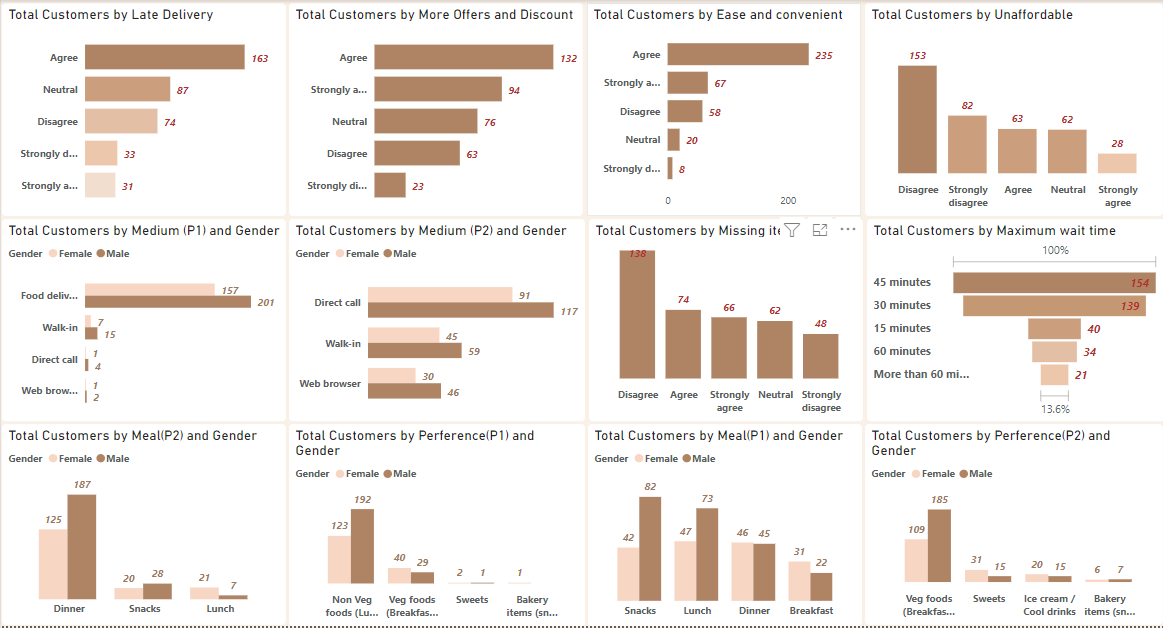

Layout of this report page (visuals, bound fields, positions):
{"tool":"powerbi","page":{"name":"Page 2","canvas":[1415,761],"ordinal":1},"visuals":[{"type":"clusteredBarChart","fields":{"Y":["Key Measures.Total Respondents"],"Category":["onlinedeliverydata csv XpressTech Dataset.Medium (P1)"],"Series":["onlinedeliverydata csv XpressTech Dataset.Gender"]},"box":[1.2,266.2,345.2,245.6],"z":0},{"type":"clusteredBarChart","fields":{"Series":["onlinedeliverydata csv XpressTech Dataset.Gender"],"Y":["Key Measures.Total Respondents"],"Category":["onlinedeliverydata csv XpressTech Dataset.Medium (P2)"]},"box":[350.1,266.2,359.8,245.6],"z":1000},{"type":"clusteredColumnChart","fields":{"Y":["Key Measures.Total Respondents"],"Category":["onlinedeliverydata csv XpressTech Dataset.Meal(P1)"],"Series":["onlinedeliverydata csv XpressTech Dataset.Gender"]},"box":[713.6,515.4,333.1,245.6],"z":2000},{"type":"clusteredColumnChart","fields":{"Y":["Key Measures.Total Respondents"],"Category":["onlinedeliverydata csv XpressTech Dataset.Meal(P2)"],"Series":["onlinedeliverydata csv XpressTech Dataset.Gender"]},"box":[1.2,515.4,345.2,244.3],"z":3000},{"type":"clusteredColumnChart","fields":{"Y":["Key Measures.Total Respondents"],"Category":["onlinedeliverydata csv XpressTech Dataset.Perference(P1)"],"Series":["onlinedeliverydata csv XpressTech Dataset.Gender"]},"box":[350.1,515.4,359.8,245.6],"z":4000},{"type":"clusteredColumnChart","fields":{"Y":["Key Measures.Total Respondents"],"Category":["onlinedeliverydata csv XpressTech Dataset.Perference(P2)"],"Series":["onlinedeliverydata csv XpressTech Dataset.Gender"]},"box":[1050,515.4,362.3,244.3],"z":5000},{"type":"barChart","fields":{"Y":["Key Measures.Total Respondents"],"Category":["onlinedeliverydata csv XpressTech Dataset.More Offers and Discount"]},"box":[350.1,3.6,357.4,258.9],"z":6000},{"type":"barChart","fields":{"Y":["Key Measures.Total Respondents"],"Category":["onlinedeliverydata csv XpressTech Dataset.Late Delivery"]},"box":[1.2,3.6,345.2,258.9],"z":7000},{"type":"columnChart","fields":{"Y":["Key Measures.Total Respondents"],"Category":["onlinedeliverydata csv XpressTech Dataset.Missing item"]},"box":[715,266.2,333.1,245.6],"z":8000},{"type":"barChart","fields":{"Y":["Key Measures.Total Respondents"],"Category":["onlinedeliverydata csv XpressTech Dataset.Ease and convenient"]},"box":[712,3.6,333.1,258.9],"z":9000},{"type":"columnChart","fields":{"Y":["Key Measures.Total Respondents"],"Category":["onlinedeliverydata csv XpressTech Dataset.Unaffordable"]},"box":[1050.3,3.6,362.3,258.9],"z":10000},{"type":"funnel","fields":{"Category":["onlinedeliverydata csv XpressTech Dataset.Maximum wait time"],"Y":["Key Measures.Total Customers"]},"box":[1052.7,266.2,362.3,245.6],"z":11000}]}

Visuals, with their boxes in screenshot pixels (x1, y1, x2, y2), scaled from the page's 1415x761 canvas onto the 1163x628 screenshot:
clusteredBarChart - Key Measures.Total Respondents x onlinedeliverydata csv XpressTech Dataset.Medium (P1): bbox(1, 220, 285, 422)
clusteredBarChart - onlinedeliverydata csv XpressTech Dataset.Gender x Key Measures.Total Respondents: bbox(288, 220, 583, 422)
clusteredColumnChart - Key Measures.Total Respondents x onlinedeliverydata csv XpressTech Dataset.Meal(P1): bbox(587, 425, 860, 627)
clusteredColumnChart - Key Measures.Total Respondents x onlinedeliverydata csv XpressTech Dataset.Meal(P2): bbox(1, 425, 285, 627)
clusteredColumnChart - Key Measures.Total Respondents x onlinedeliverydata csv XpressTech Dataset.Perference(P1): bbox(288, 425, 583, 627)
clusteredColumnChart - Key Measures.Total Respondents x onlinedeliverydata csv XpressTech Dataset.Perference(P2): bbox(863, 425, 1161, 627)
barChart - Key Measures.Total Respondents x onlinedeliverydata csv XpressTech Dataset.More Offers and Discount: bbox(288, 3, 582, 217)
barChart - Key Measures.Total Respondents x onlinedeliverydata csv XpressTech Dataset.Late Delivery: bbox(1, 3, 285, 217)
columnChart - Key Measures.Total Respondents x onlinedeliverydata csv XpressTech Dataset.Missing item: bbox(588, 220, 861, 422)
barChart - Key Measures.Total Respondents x onlinedeliverydata csv XpressTech Dataset.Ease and convenient: bbox(585, 3, 859, 217)
columnChart - Key Measures.Total Respondents x onlinedeliverydata csv XpressTech Dataset.Unaffordable: bbox(863, 3, 1161, 217)
funnel - onlinedeliverydata csv XpressTech Dataset.Maximum wait time x Key Measures.Total Customers: bbox(865, 220, 1162, 422)
